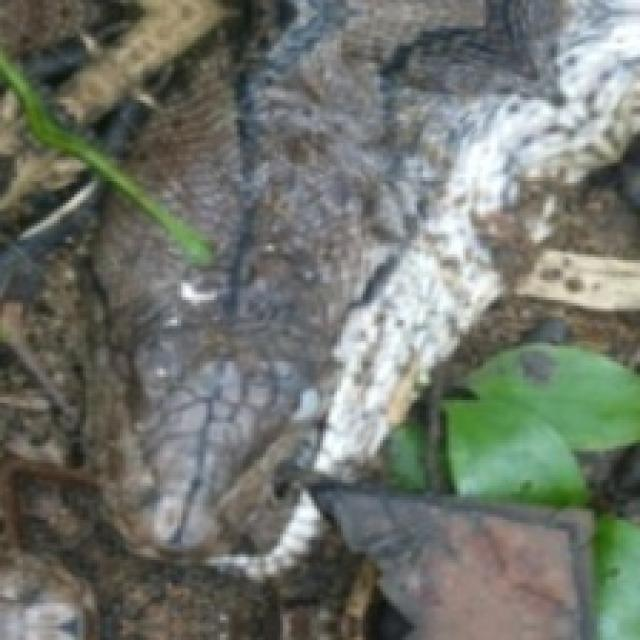reticulated python: (83, 0, 637, 569)
